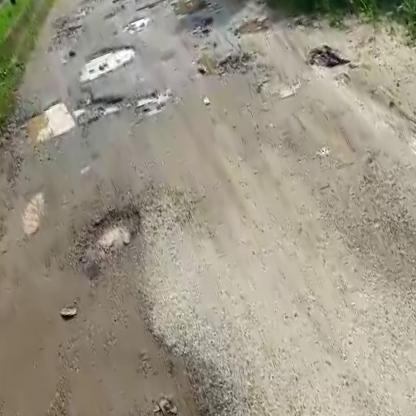pothole: (10, 386, 262, 416), (18, 80, 126, 149), (67, 195, 154, 271), (77, 36, 141, 82), (133, 86, 177, 121), (60, 18, 90, 41)
